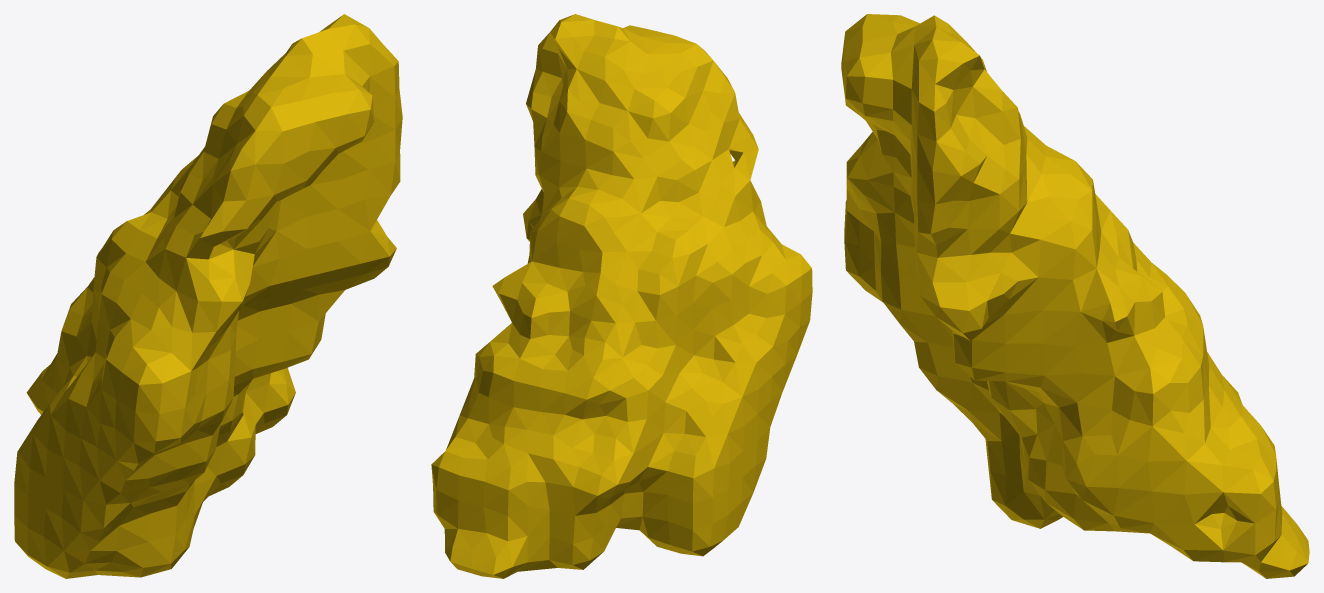
Rendered from aseg_058_Right-Accumbens-area.glb.
3 renders of one model, left to right at view 1: azimuth 30°, elevation 25°; view 2: azimuth 150°, elevation 25°; view 3: azimuth 270°, elevation 25°, orthographic. The views are drawn at different scales.
Bounding box in the file's own units: 9.9 × 16.86 × 12.83.
